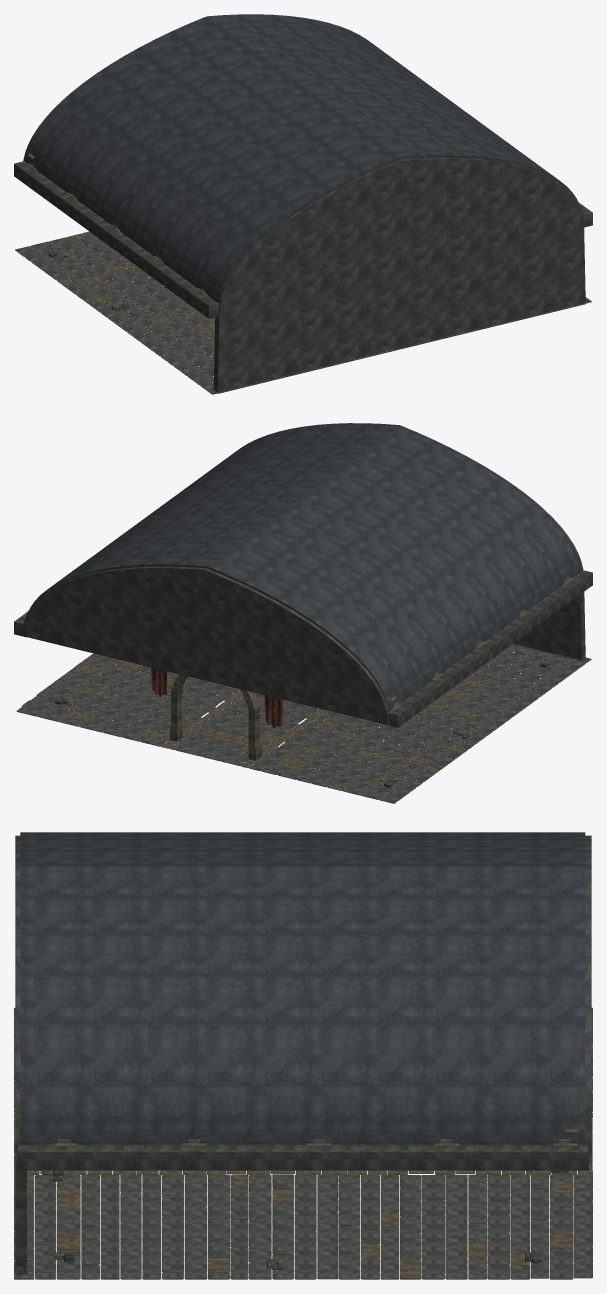
File: hub_ruined_vault.glb
3 views of the same model, one above another, from view 1: azimuth 30°, elevation 25°; view 2: azimuth 150°, elevation 25°; view 3: azimuth 270°, elevation 25° (orthographic). The views are drawn at different scales.
Parts seen in each view (by area): view 1: Solid arrival-end wall and vault closure, Vault bay 05 west, Vault bay 03 west, West aisle, staggered slate courses, Vault bay 04 west, Vault bay 02 west, Vault bay 06 west, Side wall vault springer, Vault bay 05 east, Vault bay 03 east, Vault bay 04 east, Vault bay 02 east (+3 smaller); view 2: Solid altar-end vault closure, West aisle, staggered slate courses, Vault bay 05 west, Vault bay 03 west, Vault bay 04 west, Vault bay 02 west, East aisle, staggered slate courses, Side wall vault springer, North nave, broad slate flags, Vault bay 06 west, Vault bay 05 east, Vault bay 03 east (+10 smaller); view 3: East aisle, staggered slate courses, Vault bay 05 east, Vault bay 03 east, Vault bay 04 east, Vault bay 02 east, Side wall vault springer.001, Vault bay 06 east, Vault bay 01 east, Vault bay 05 west, Vault bay 03 west, Vault bay 04 west, Vault bay 02 west (+5 smaller).
Boxes of the visible parts, <box> form: Solid arrival-end wall and vault closure: <box>213,157,585,393</box>; Vault bay 05 west: <box>159,114,384,289</box>; Vault bay 03 west: <box>73,51,297,225</box>; West aisle, staggered slate courses: <box>15,231,357,394</box>; Vault bay 04 west: <box>116,83,340,256</box>; Vault bay 02 west: <box>32,21,253,194</box>; Vault bay 06 west: <box>203,146,399,302</box>; Side wall vault springer: <box>14,161,219,318</box>; Vault bay 05 east: <box>341,112,541,167</box>; Vault bay 03 east: <box>255,49,455,104</box>; Vault bay 04 east: <box>298,80,498,135</box>; Vault bay 02 east: <box>214,19,411,72</box>; Solid altar-end vault closure: <box>21,566,389,725</box>; West aisle, staggered slate courses: <box>249,644,591,803</box>; Vault bay 05 west: <box>341,436,566,611</box>; Vault bay 03 west: <box>255,500,479,674</box>; Vault bay 04 west: <box>298,468,521,642</box>; Vault bay 02 west: <box>214,531,435,703</box>; East aisle, staggered slate courses: <box>16,653,238,746</box>; Side wall vault springer: <box>386,570,592,727</box>; North nave, broad slate flags: <box>169,693,318,765</box>; Vault bay 06 west: <box>385,425,581,578</box>; Vault bay 05 east: <box>184,434,384,489</box>; Vault bay 03 east: <box>96,497,297,553</box>; East aisle, staggered slate courses: <box>14,1174,592,1279</box>; Vault bay 05 east: <box>64,866,193,1144</box>; Vault bay 03 east: <box>319,866,446,1144</box>; Vault bay 04 east: <box>194,866,318,1144</box>; Vault bay 02 east: <box>446,866,564,1144</box>; Side wall vault springer.001: <box>17,1144,588,1170</box>; Vault bay 06 east: <box>20,866,64,1144</box>; Vault bay 01 east: <box>565,866,585,1144</box>; Vault bay 05 west: <box>64,832,193,866</box>; Vault bay 03 west: <box>319,832,446,866</box>; Vault bay 04 west: <box>194,832,318,866</box>; Vault bay 02 west: <box>446,832,564,866</box>.
Size of the model in its own units: 29.08 by 13.77 by 25.9.
Materials: 9 (9 with a texture image).
